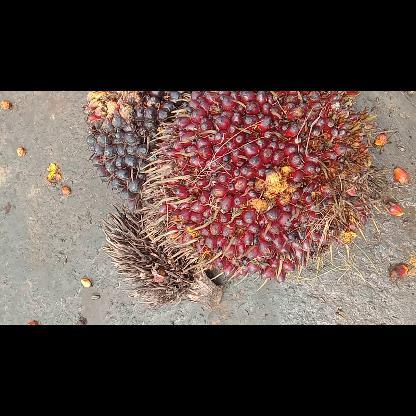Janjang kosong: (101, 204, 223, 312)
TBS masak: (136, 90, 390, 290)
TBS mentah: (81, 91, 187, 211)
